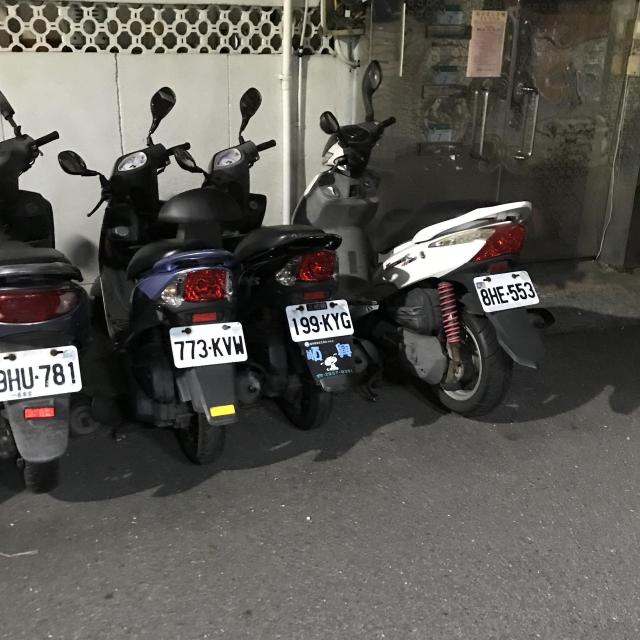W: (0, 343, 90, 404), (167, 319, 251, 371), (284, 297, 356, 344), (472, 266, 542, 313)
